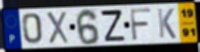0: (21, 12, 45, 46)
6: (75, 7, 102, 46)
F: (128, 8, 153, 42)
K: (156, 7, 178, 40)
X: (45, 11, 71, 46)
Z: (99, 9, 127, 43)
